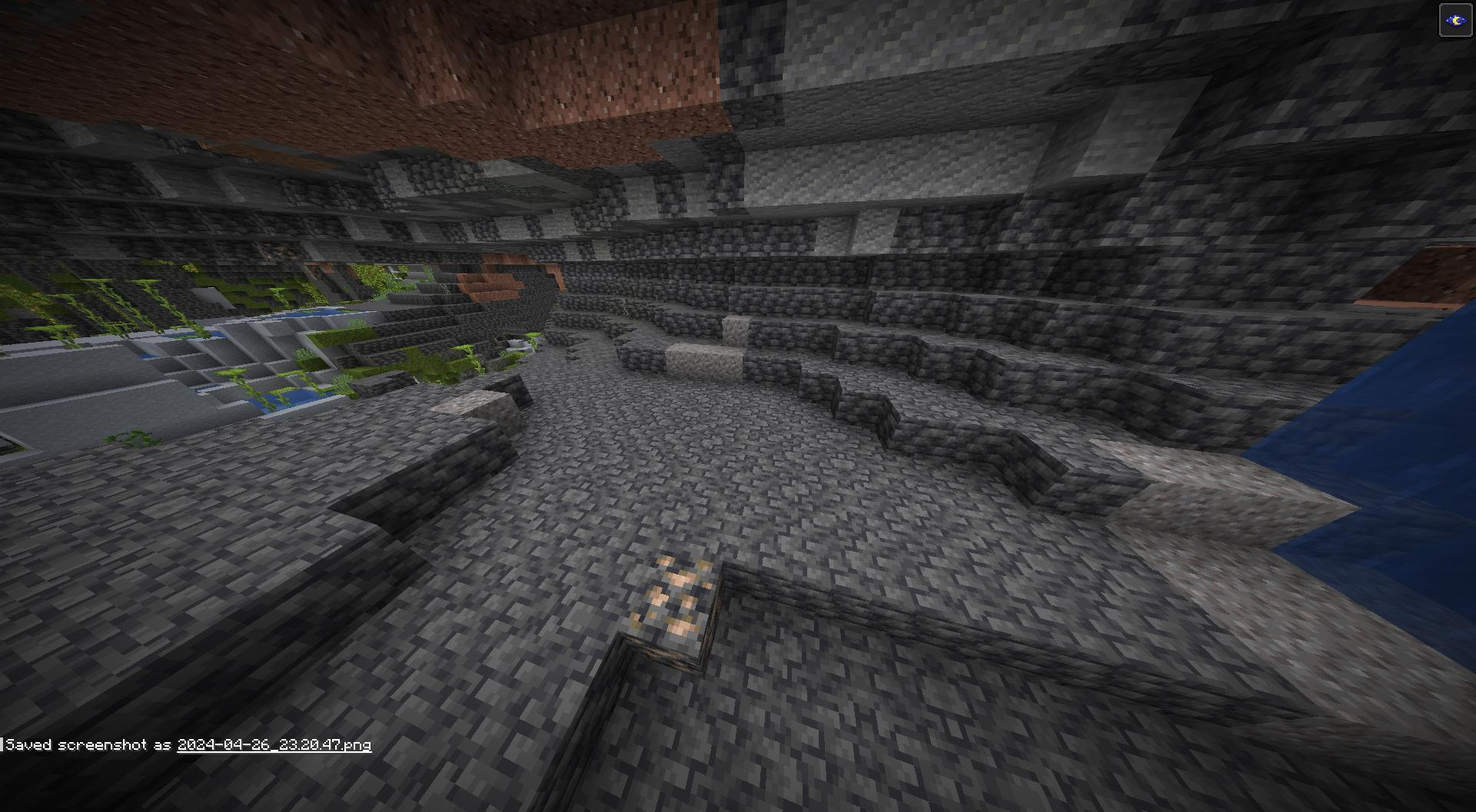iron ore: (624, 554, 715, 638), (254, 237, 298, 263)
